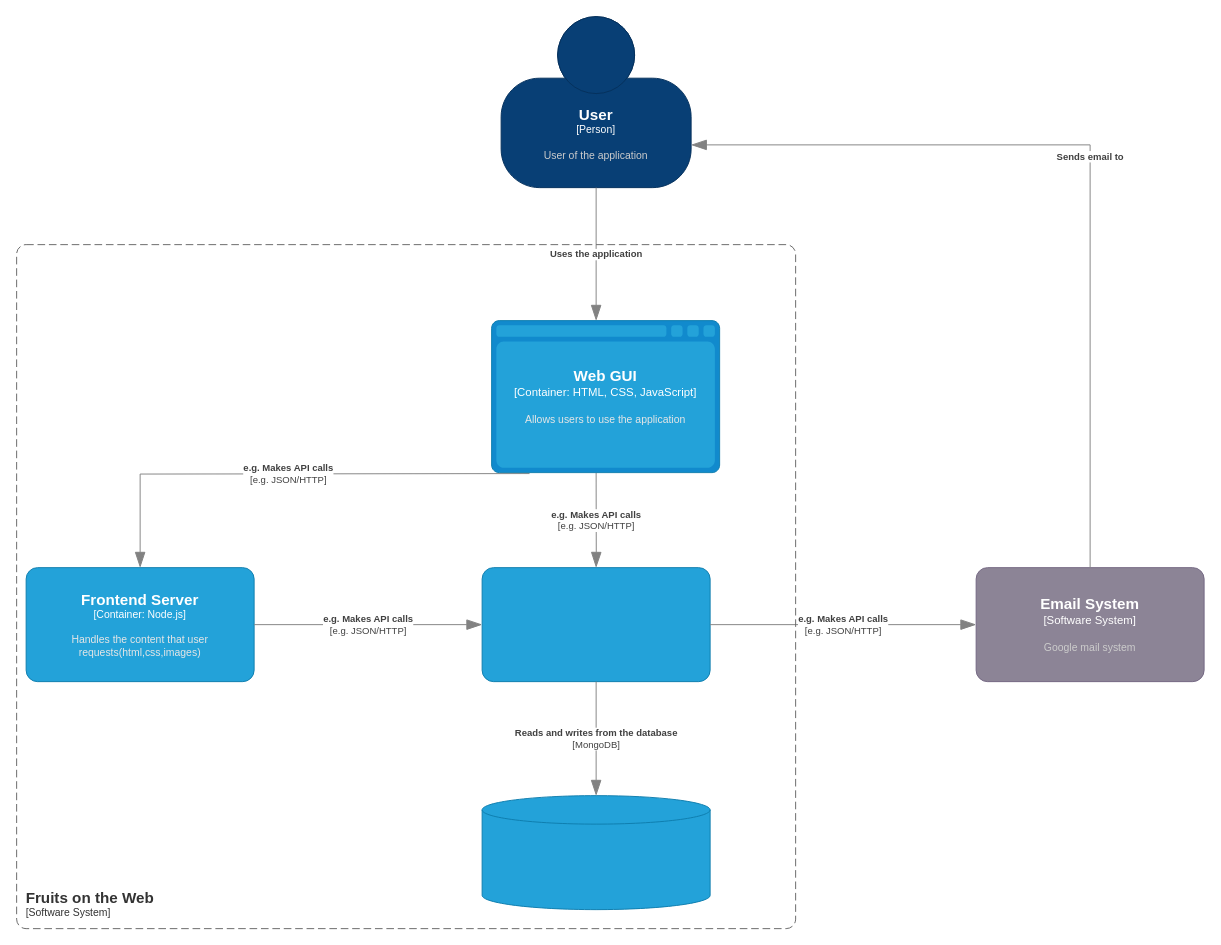
The diagram is 1221 pixels wide and 945 high, and some of its shapes have lost their labels. The shapes that lost their labels are listed below. From the top down, each one's centre as x and y in pixels, then its label:
At (595,624): "Backend Server [Container: Node.js] Provides the application's functionality".
At (595,852): "Database [Container: MongoDB] Stores information about the users".
